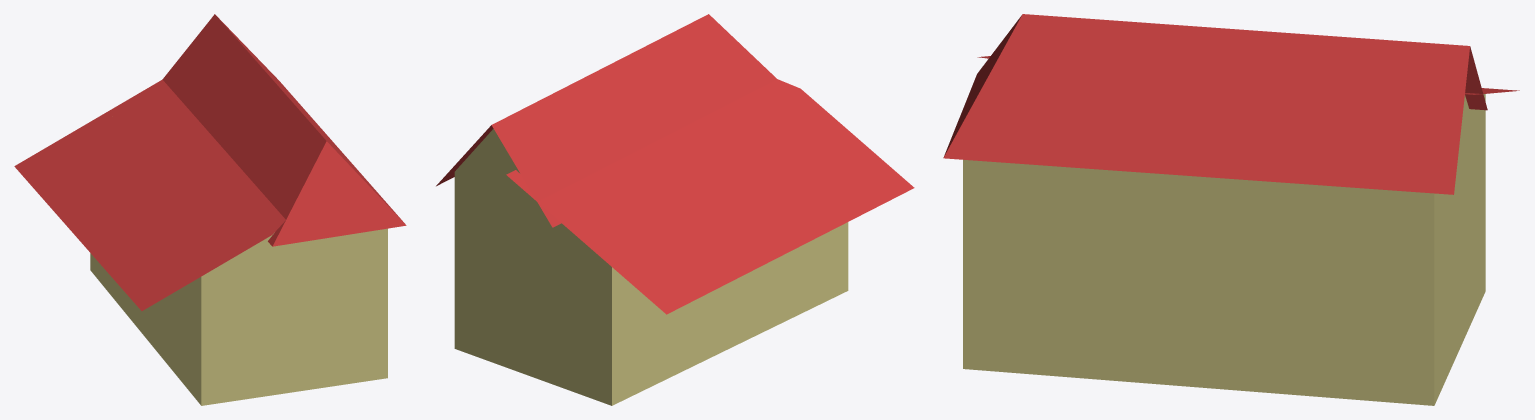
3 views of the same model, side by side, from view 1: azimuth 30°, elevation 25°; view 2: azimuth 150°, elevation 25°; view 3: azimuth 270°, elevation 25° (orthographic). The views are drawn at different scales.
Size of the model in its own units: 13.77 by 16.55 by 10.35.
